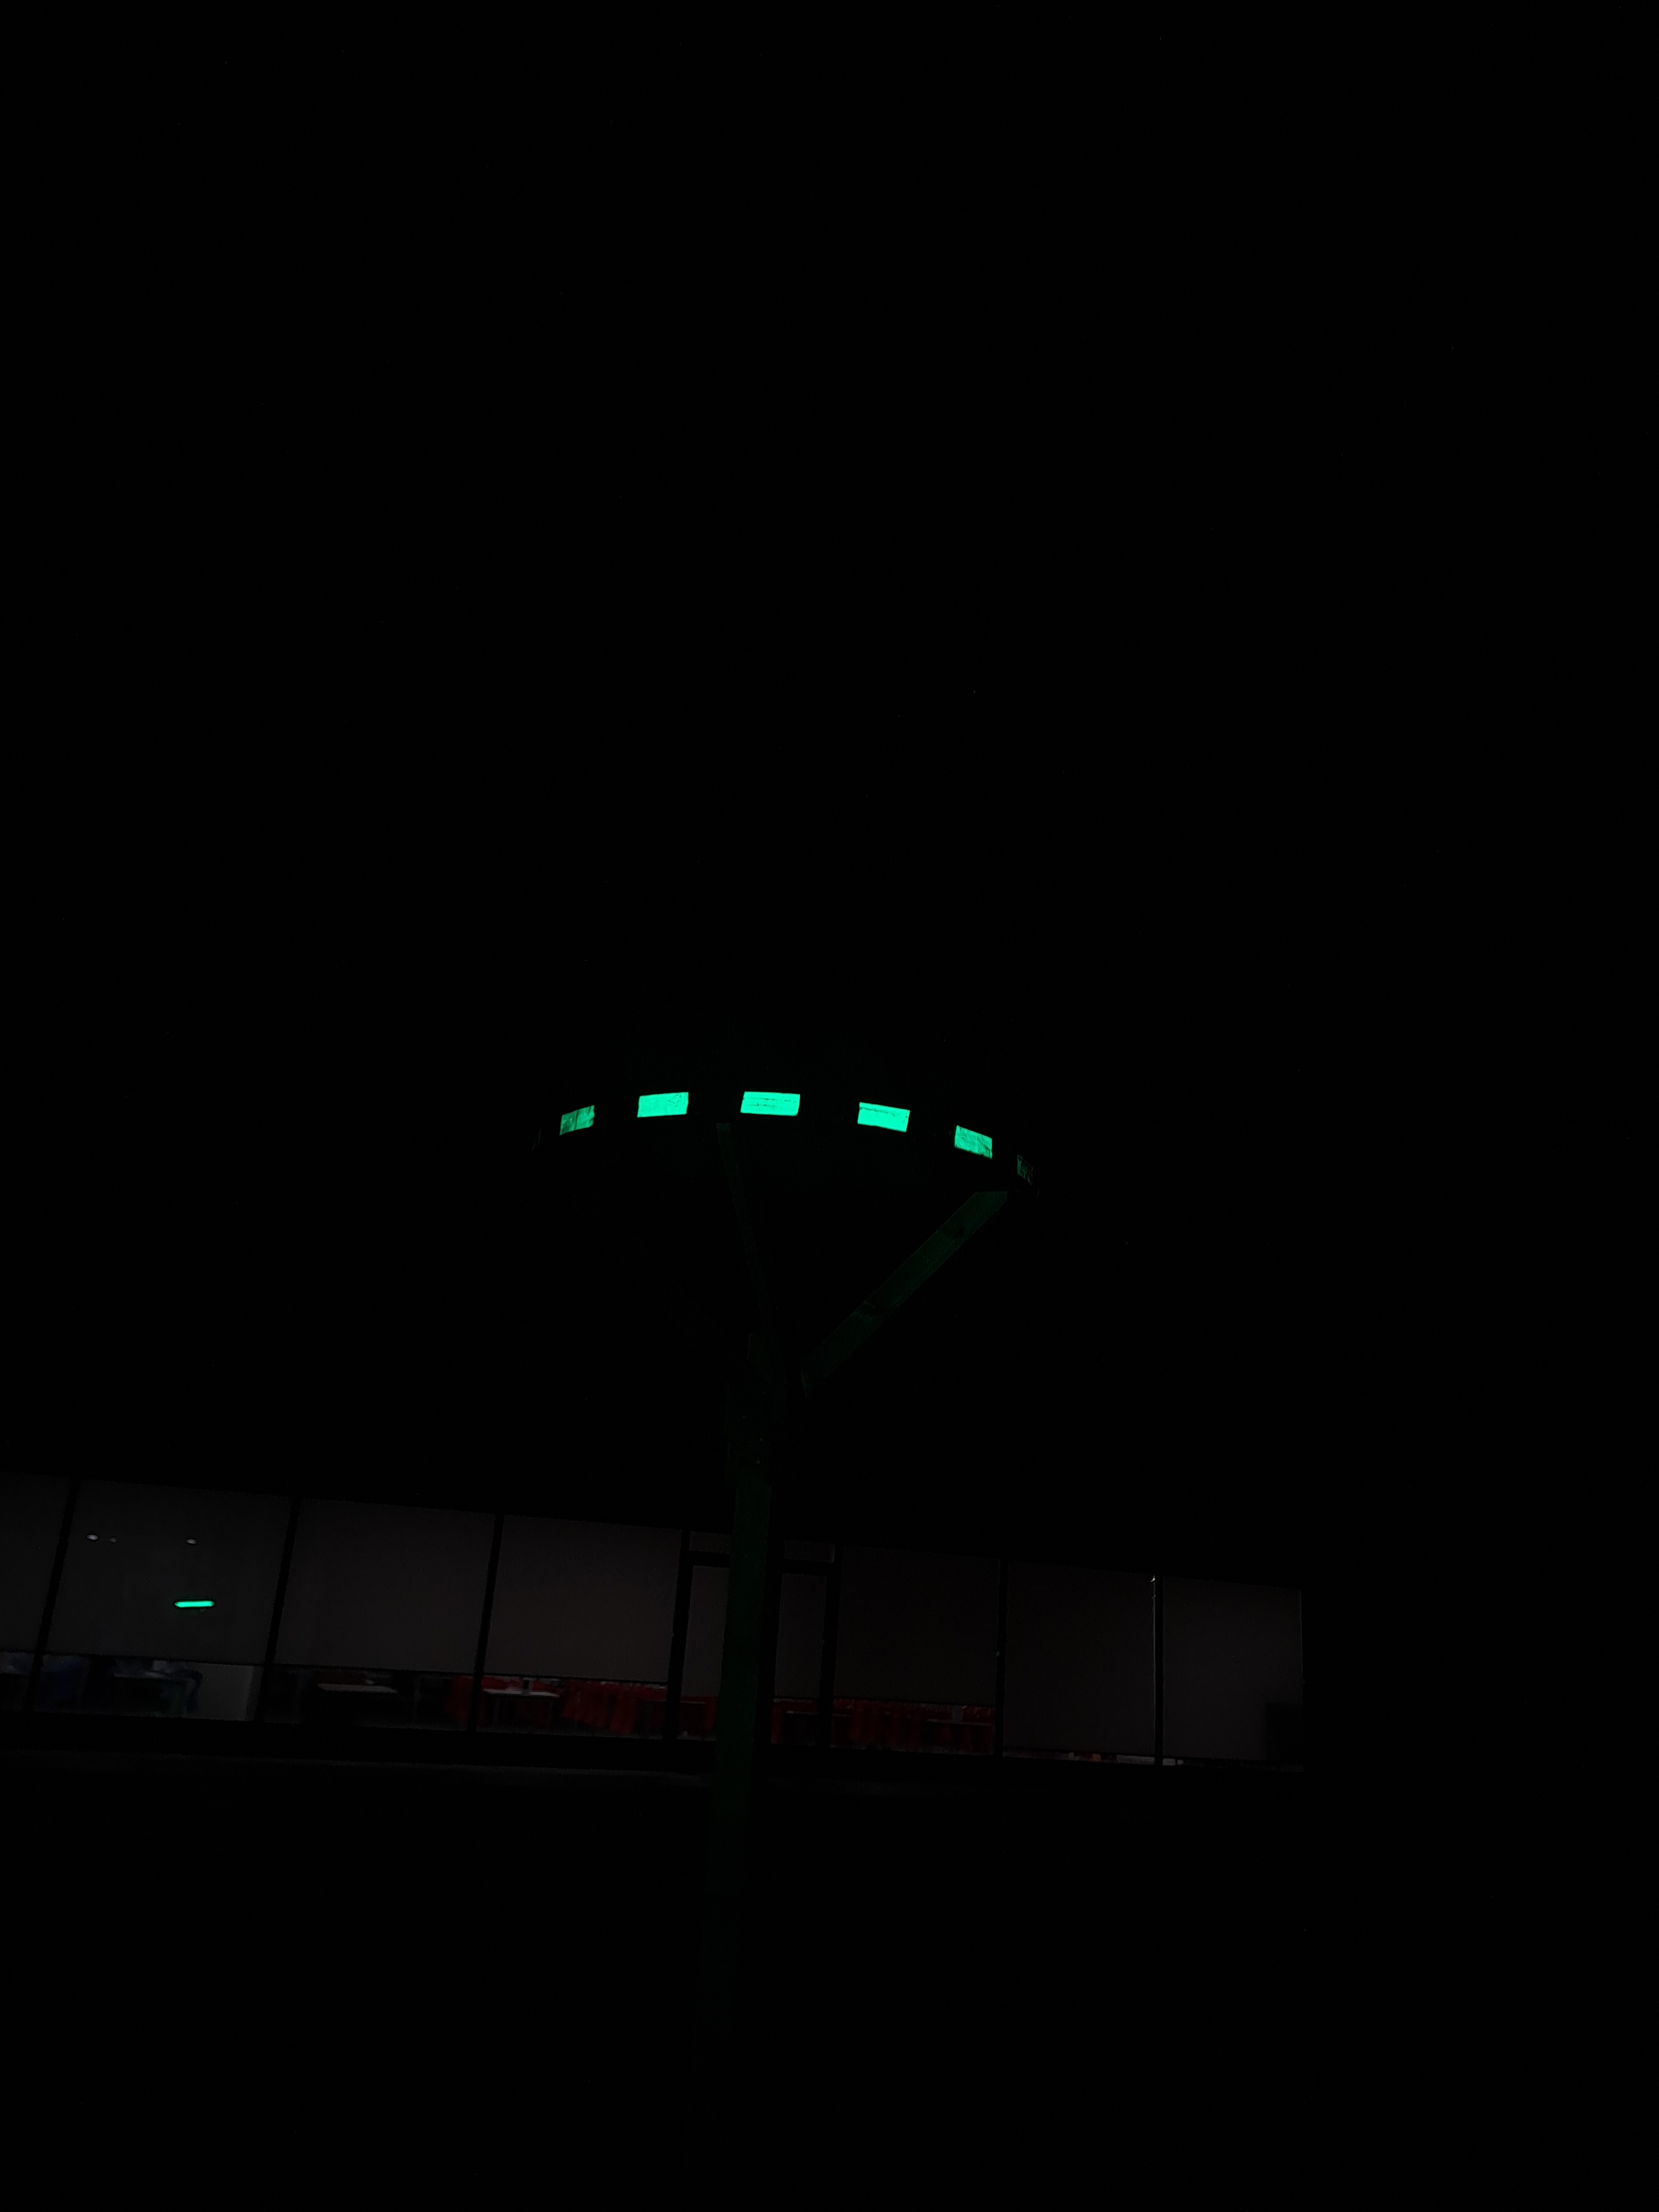hoop: (552, 1082, 999, 1169)
